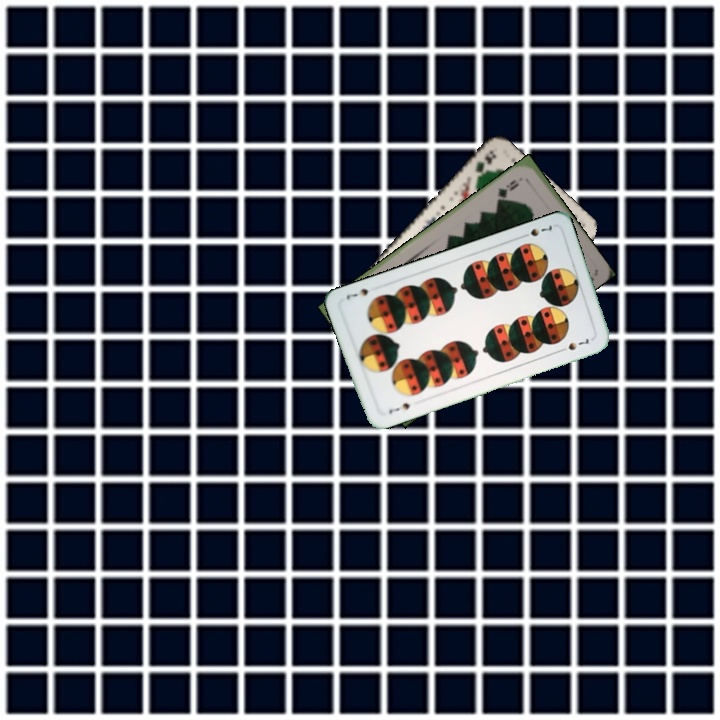G9: (493, 175, 521, 204)
GK: (471, 146, 499, 184)
S7: (517, 221, 555, 241), (385, 399, 414, 416)
